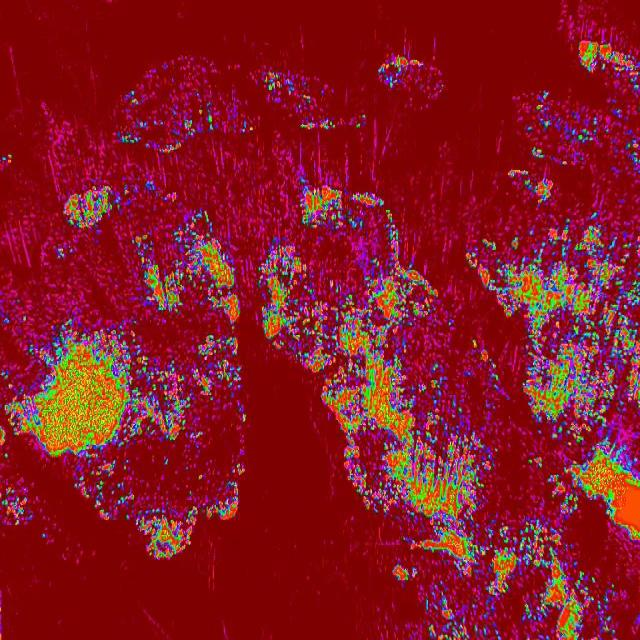fire: (0, 163, 247, 561), (253, 186, 640, 377), (392, 517, 640, 640), (341, 442, 640, 518), (321, 378, 640, 442), (109, 53, 254, 163), (510, 93, 640, 187), (262, 67, 364, 137), (374, 50, 449, 112), (571, 36, 640, 90)
